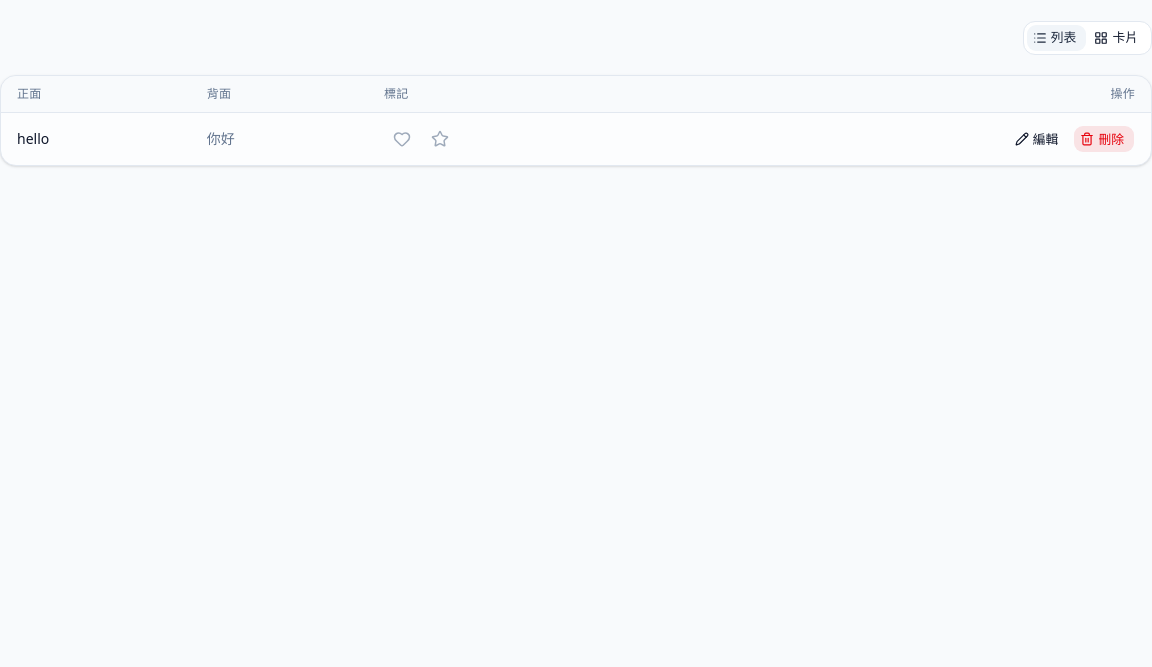
Test: DeckDetail › grid view shows card blocks with working edit, delete, and open actions
The width and height of the screenshot is (1152, 667).
Expected: the button "hello" is shown, [17, 129, 49, 149]
Click the button with aria-label "卡片檢視".
click(1118, 38)  # box [1087, 24, 1149, 52]
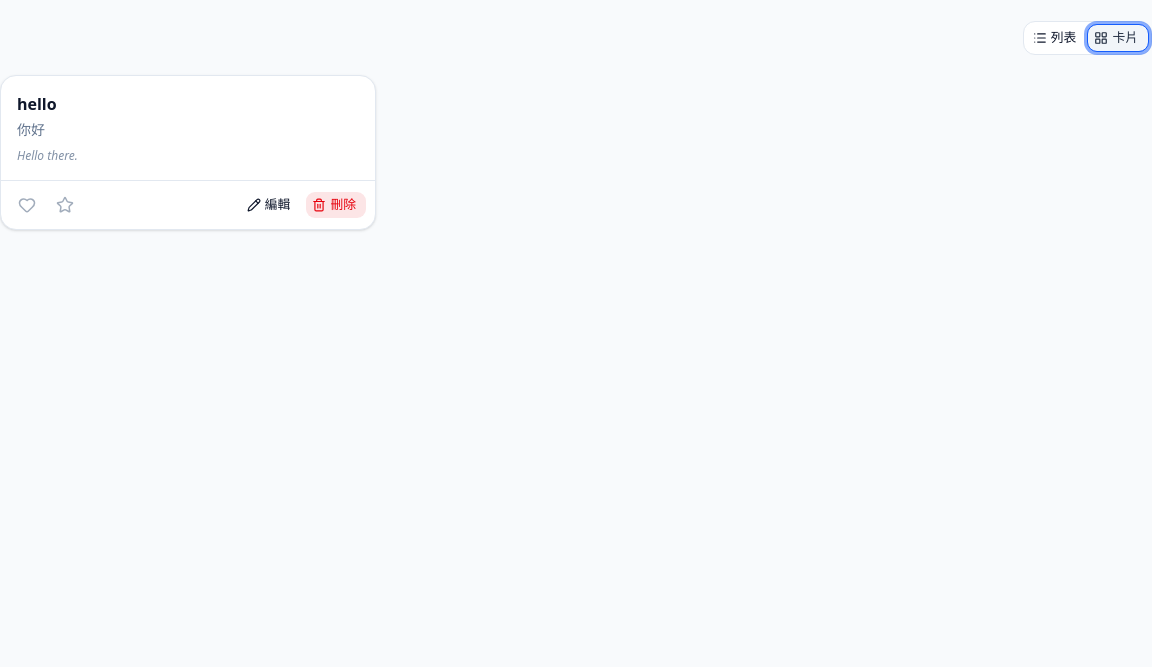
Note: block click opens the dialog
Click the button with aria-label "查看單字卡 hello".
click(37, 104)  # box [1, 76, 375, 180]
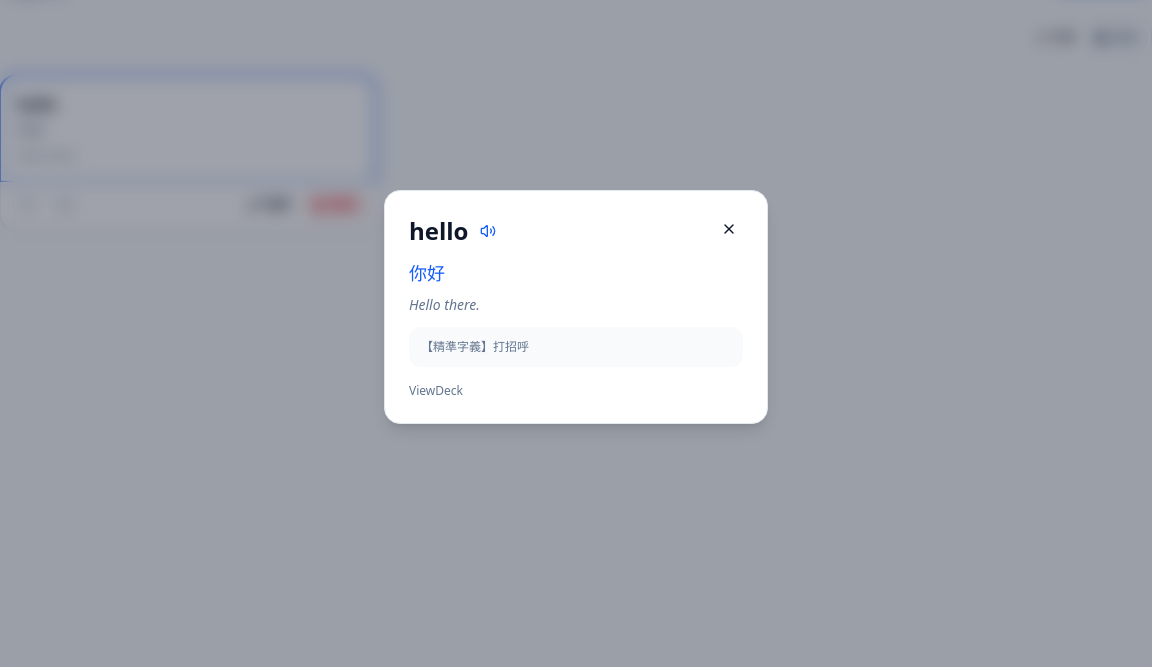
Expected: the dialog named "單字卡：hello" is shown, [384, 190, 768, 424]
Click the button named "關閉單字卡".
click(729, 229)  # box [715, 215, 743, 243]
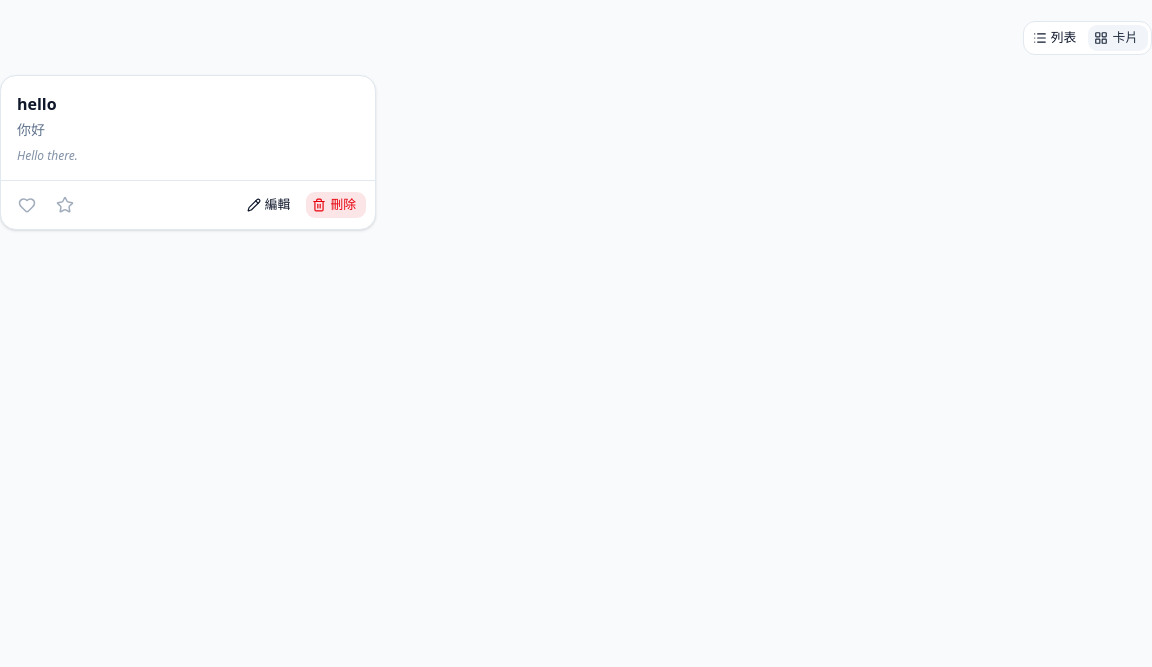
Note: edit opens the editor prefilled
Click the button "編輯".
click(271, 205)  # box [240, 191, 301, 219]
(page scrolled)
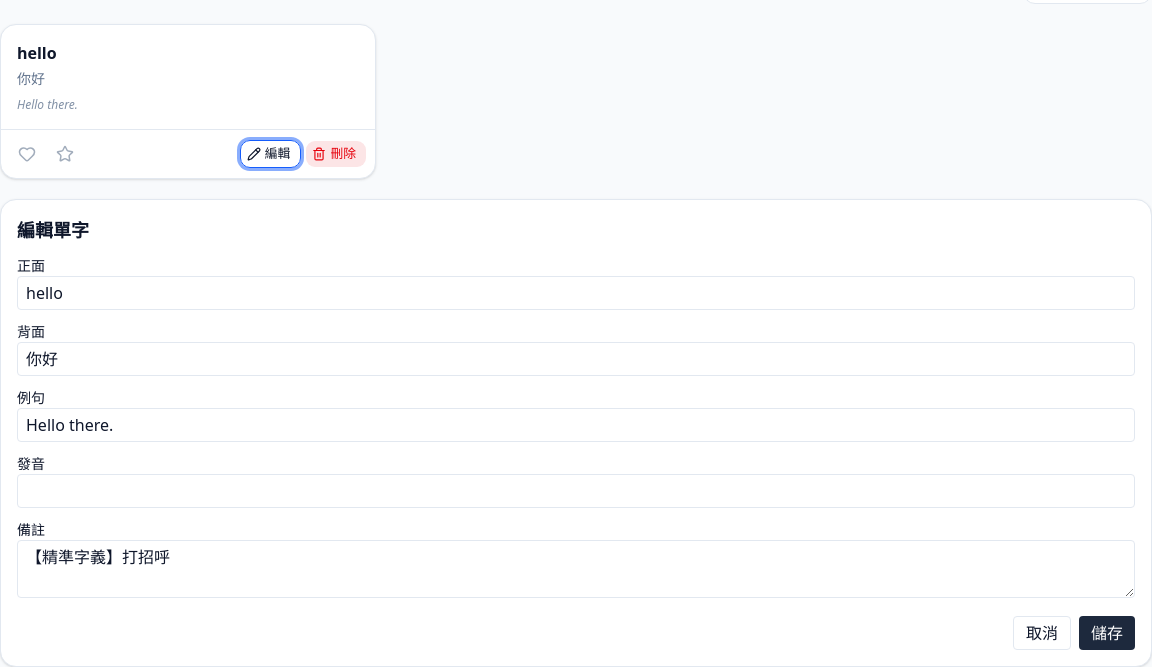
Expected: the field labelled "正面" holds "hello", [17, 276, 1135, 310]
Click the button "取消".
click(1042, 633)  # box [1013, 616, 1071, 650]
(page scrolled)
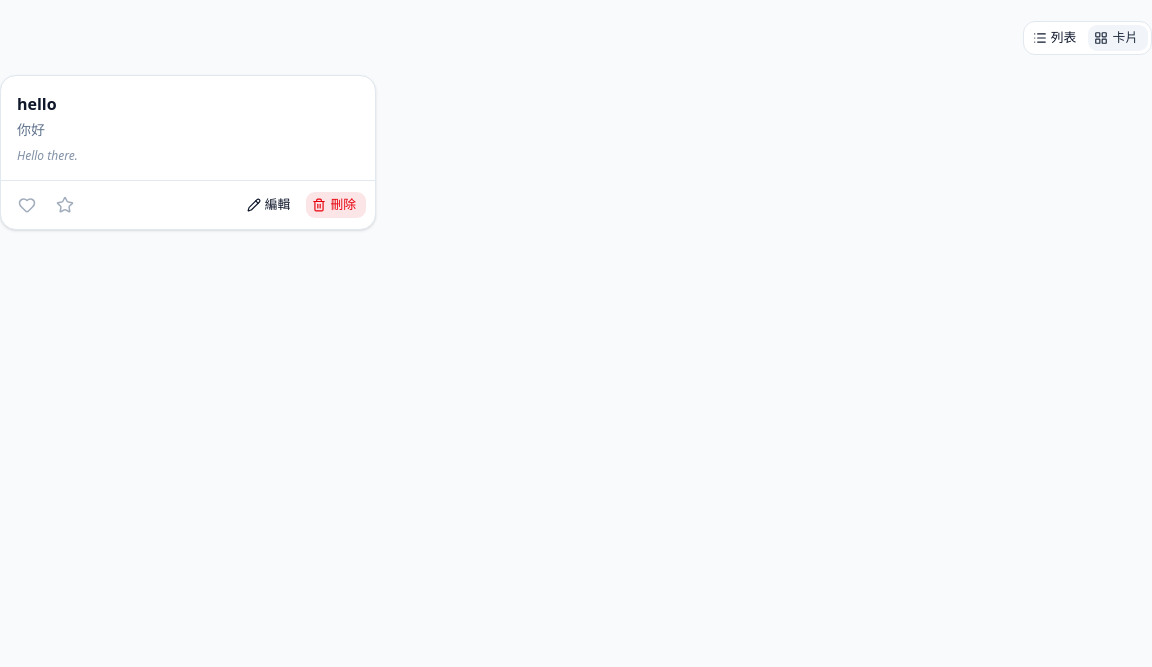
Note: delete removes the block
Click the button "刪除".
click(336, 205)  # box [305, 191, 367, 219]
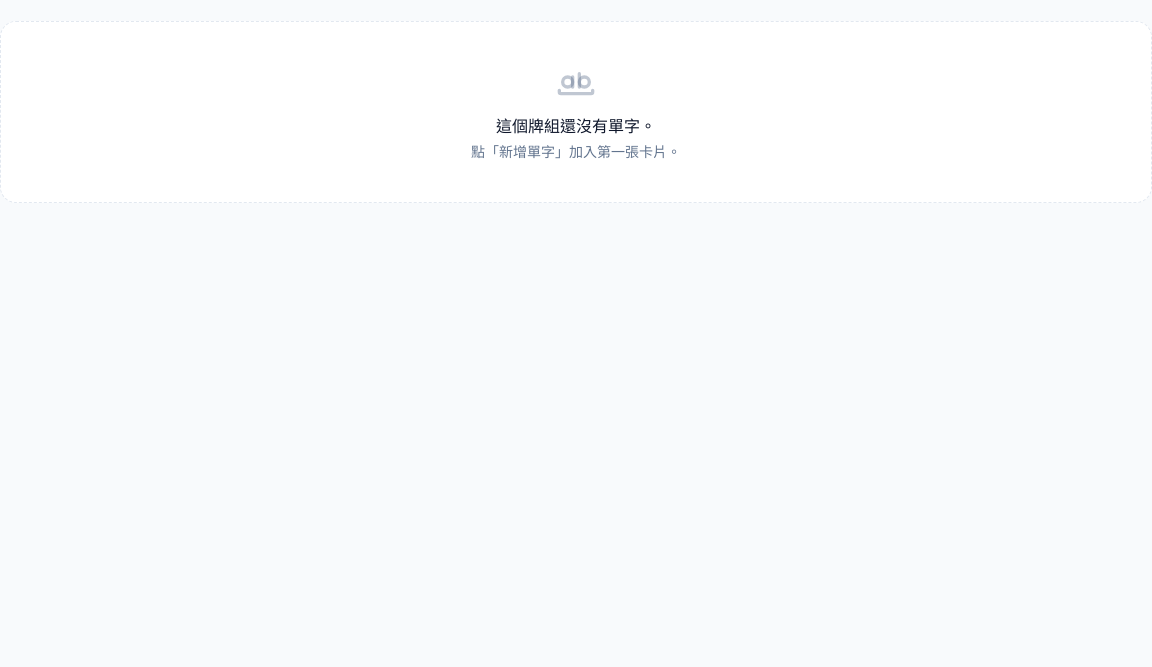
Expected: the text "這個牌組還沒有單字。" is shown, [496, 115, 656, 137]
